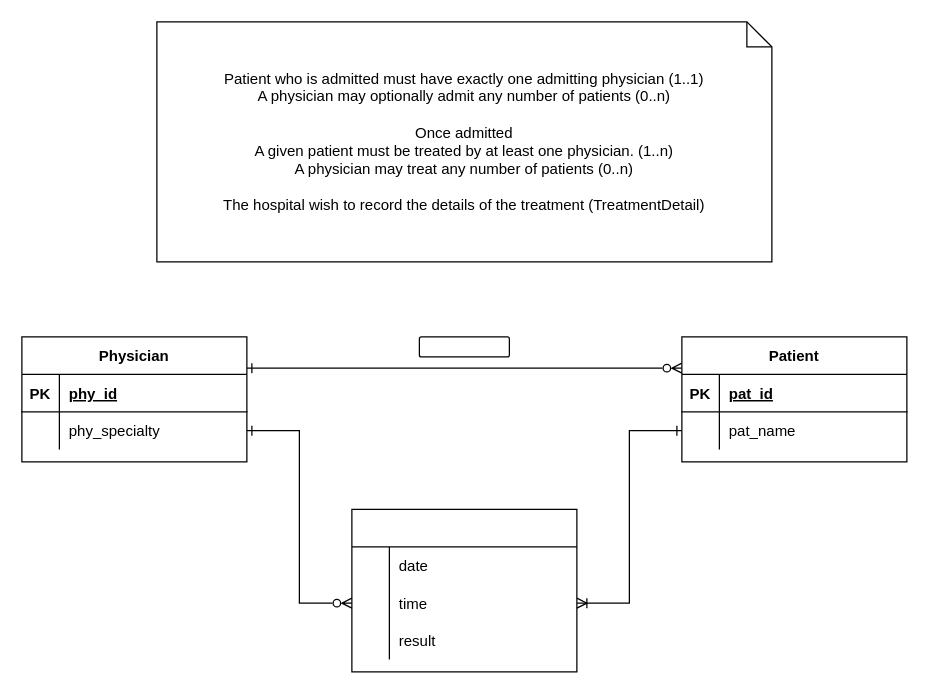
Some shapes in this 929 by 694 pixel diagram are drawn without their labels. The shapes that lost their labels are listed below. From the top down, each one's box as (x1, y1, x2, y2) in pixels, then its label:
(418, 336, 509, 357): admit
(351, 508, 577, 672): TreatmentDetail
